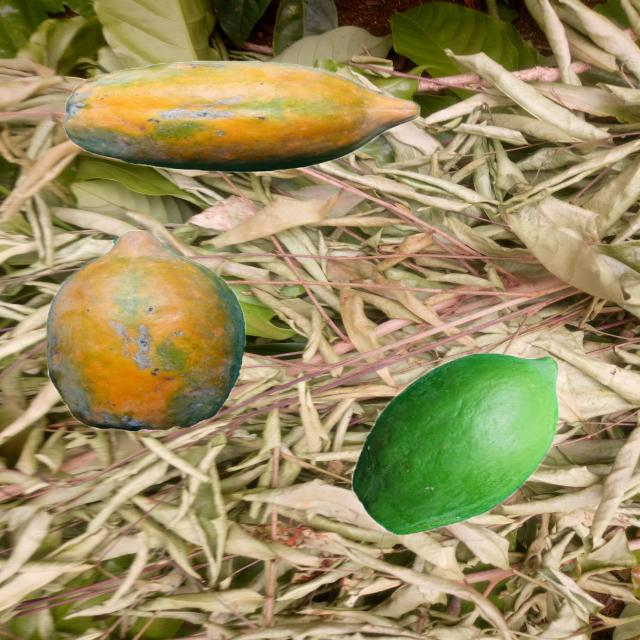Pepaya rippen: (18, 229, 273, 436), (46, 65, 418, 174)
Pepaya unrippen: (336, 348, 571, 542)
